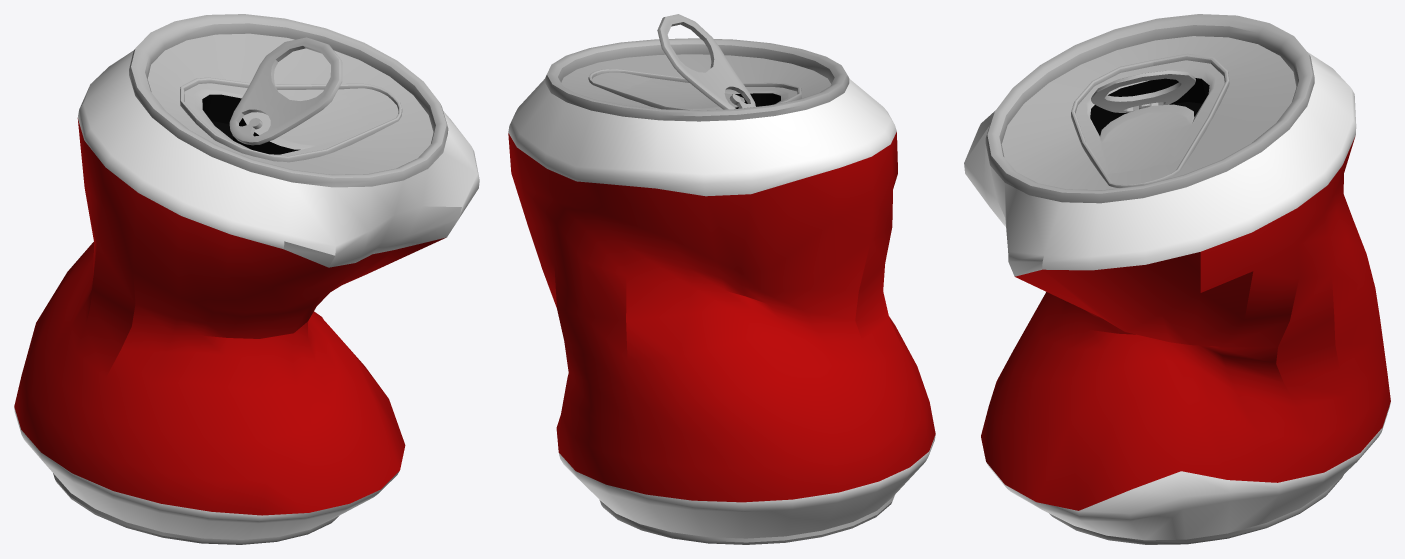
The model's file is Drinks_02.glb.
3 renders of one model, left to right at view 1: azimuth 30°, elevation 25°; view 2: azimuth 150°, elevation 25°; view 3: azimuth 270°, elevation 25°, orthographic. The views are drawn at different scales.
Parts seen in each view (by area): view 1: Mesh_Drinks_02; view 2: Mesh_Drinks_02; view 3: Mesh_Drinks_02.
Part boxes in pixels (<box>): Mesh_Drinks_02: <box>14,14,479,544</box>; Mesh_Drinks_02: <box>508,14,935,544</box>; Mesh_Drinks_02: <box>964,14,1390,544</box>.
Bounding box in the file's own units: 0.0777 × 0.0834 × 0.0696.
Materials: 1 (1 with a texture image).
